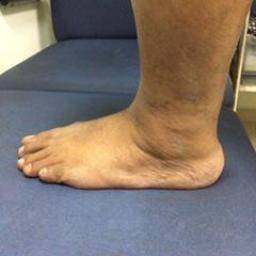Lateral View -Left Foot-: (12, 67, 237, 195)
